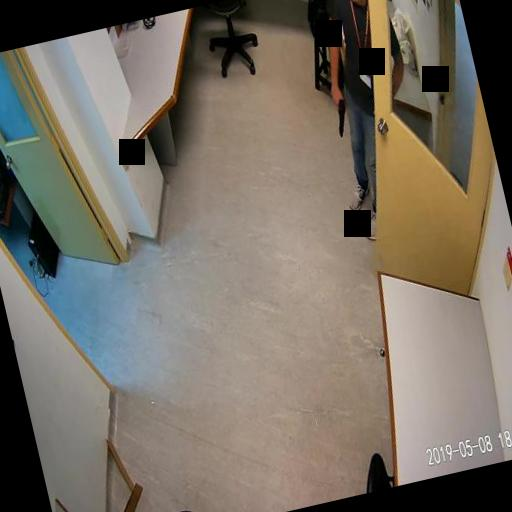Handgun: (330, 94, 350, 137)
